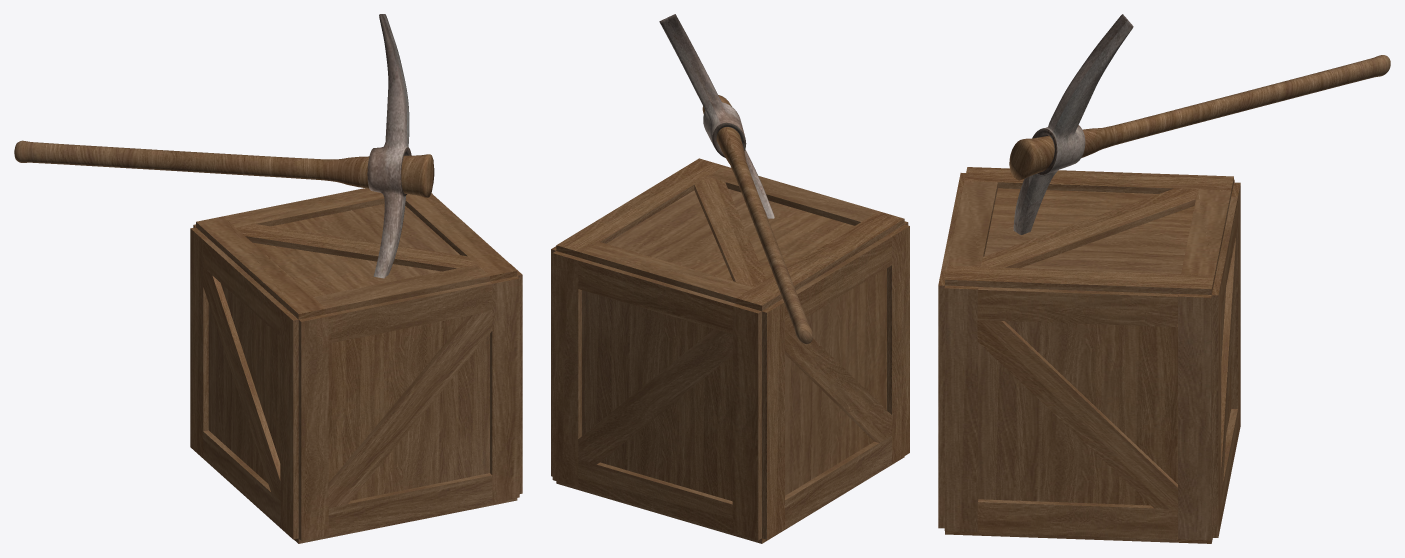
The model's file is pick axe on the crate.fbx.
3 views of the same model, side by side, from view 1: azimuth 30°, elevation 25°; view 2: azimuth 150°, elevation 25°; view 3: azimuth 270°, elevation 25° (orthographic). The views are drawn at different scales.
Parts seen in each view (by area): view 1: Cube.153, Cylinder004.001, Cube.159, Cube.182, Cube.160, Cylinder003.001, Cube.174, Cube.173, Cube.163, Cube.181, Cube.183, Cube.158 (+8 smaller); view 2: Cube.153, Cube.166, Cube.165, Cube.184, Cube.164, Cube.177, Cube.178, Cube.163, Cube.181, Cube.157, Cube.158, Cylinder004.001 (+8 smaller); view 3: Cube.153, Cube.180, Cube.162, Cube.161, Cylinder004.001, Cube.169, Cube.170, Cylinder003.001, Cube.157, Cube.183, Cube.158, Cube.176 (+8 smaller).
Part boxes in pixels (x1,y1,x2,y2): Cube.153: [208, 204, 489, 500]; Cylinder004.001: [14, 140, 434, 197]; Cube.159: [298, 314, 328, 540]; Cube.182: [328, 311, 492, 507]; Cube.160: [490, 276, 519, 502]; Cylinder003.001: [367, 14, 411, 278]; Cube.174: [326, 281, 492, 343]; Cube.173: [328, 473, 492, 535]; Cube.163: [280, 308, 298, 539]; Cube.181: [203, 267, 280, 500]; Cube.183: [236, 224, 476, 271]; Cube.158: [196, 216, 325, 319]; Cube.153: [582, 188, 886, 501]; Cube.166: [732, 304, 761, 540]; Cube.165: [552, 251, 581, 487]; Cube.184: [578, 329, 732, 464]; Cube.164: [762, 300, 784, 539]; Cube.177: [578, 258, 735, 334]; Cube.178: [578, 459, 732, 532]; Cube.163: [887, 224, 909, 463]; Cube.181: [784, 325, 892, 442]; Cube.157: [556, 158, 724, 258]; Cube.158: [736, 211, 904, 311]; Cylinder004.001: [702, 95, 813, 344]; Cube.153: [978, 188, 1231, 536]; Cube.180: [977, 319, 1178, 509]; Cube.162: [944, 285, 978, 531]; Cube.161: [1178, 293, 1211, 540]; Cylinder004.001: [1009, 55, 1390, 180]; Cube.169: [977, 287, 1178, 327]; Cube.170: [977, 499, 1177, 539]; Cylinder003.001: [1013, 14, 1133, 234]; Cube.157: [945, 265, 1214, 294]; Cube.183: [980, 188, 1197, 268]; Cube.158: [964, 167, 1233, 195]; Cube.176: [1181, 189, 1231, 279].
Bounding box in the file's own units: 6.22 × 7.99 × 6.7.
2 materials, 2 textured.
